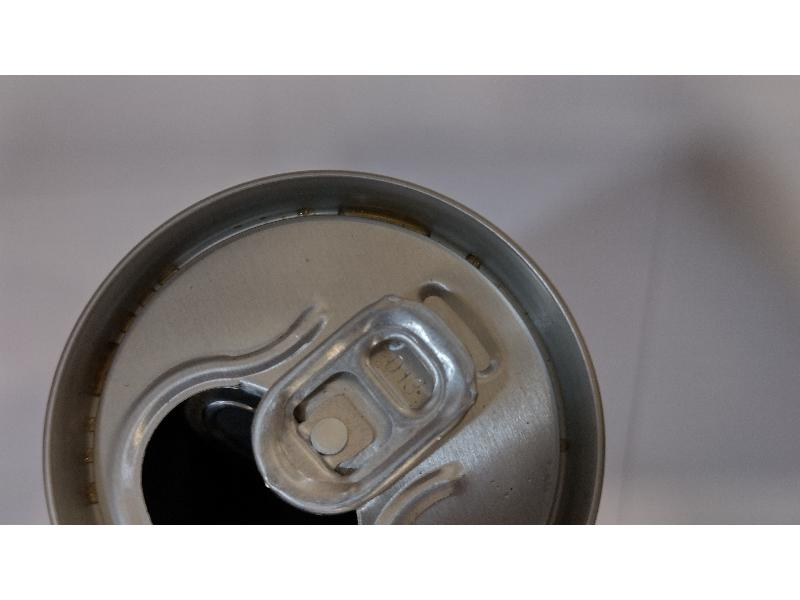can: (32, 160, 624, 524)
